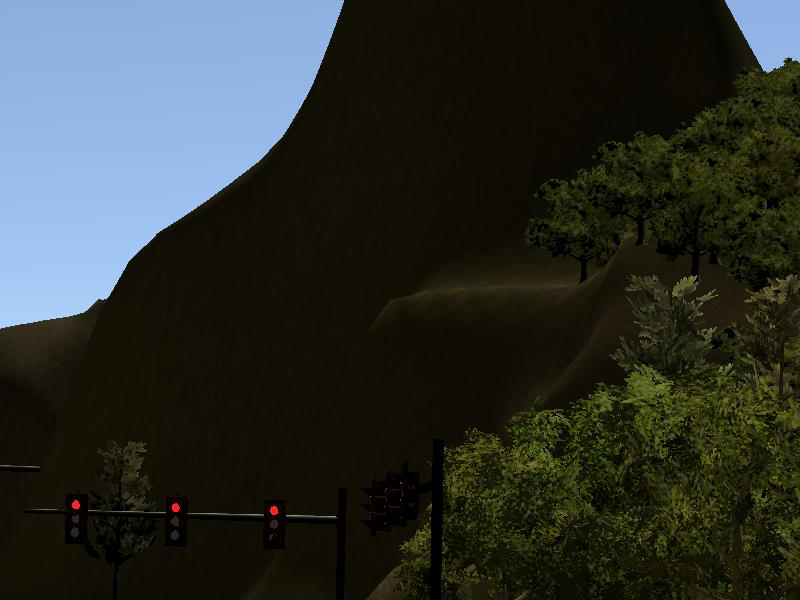red: (165, 498, 186, 549), (264, 501, 285, 550), (65, 496, 85, 546)
